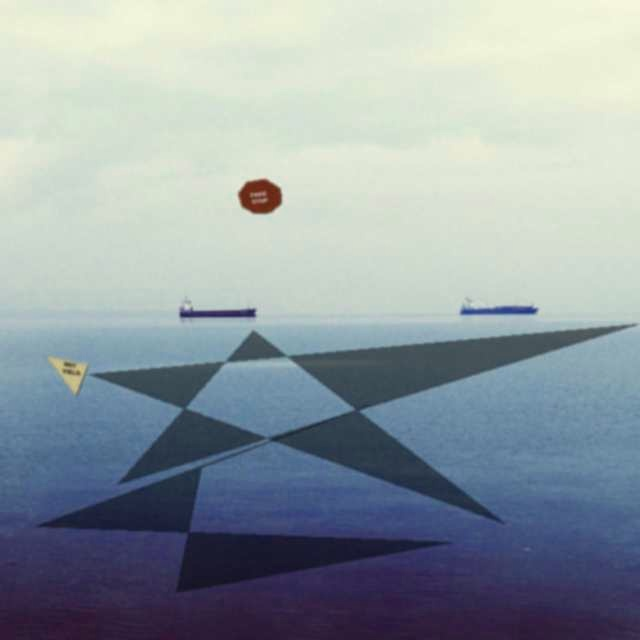FAKE_STOP: (237, 178, 282, 214)
NOT_YIELD: (44, 355, 89, 397)
